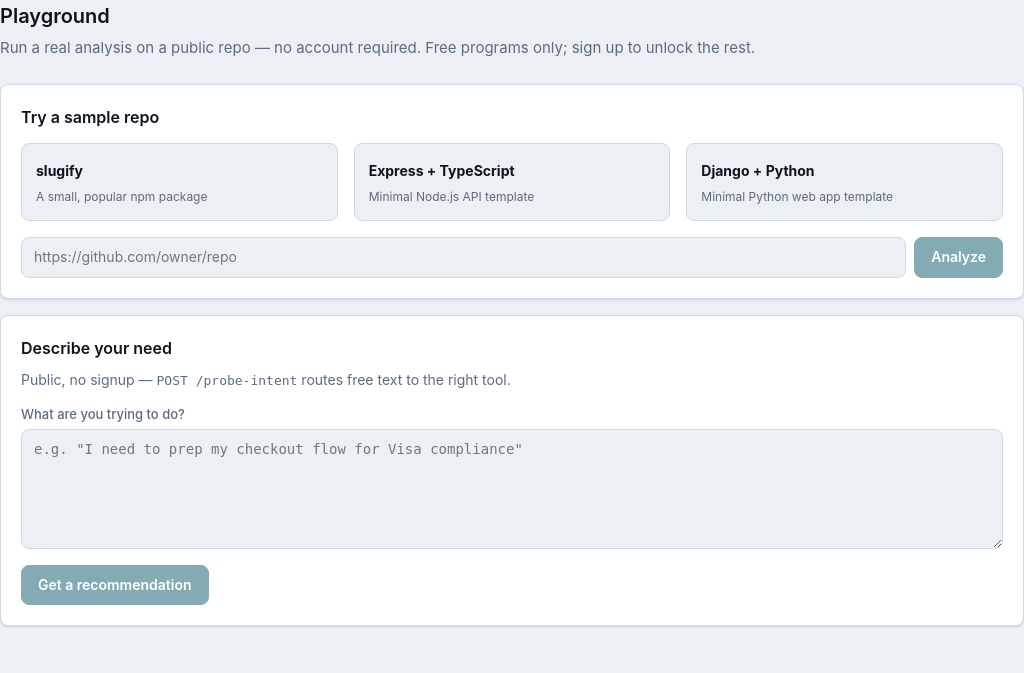
Test: PlaygroundPage — quota meter race (H-Phase-A cycle 12) › a slow mount-time quota response cannot overwrite the fresher post-run one
The width and height of the screenshot is (1024, 673).
Click the text "slugify".
click(60, 170)  # box top-left (36, 162), bottom-right (83, 179)
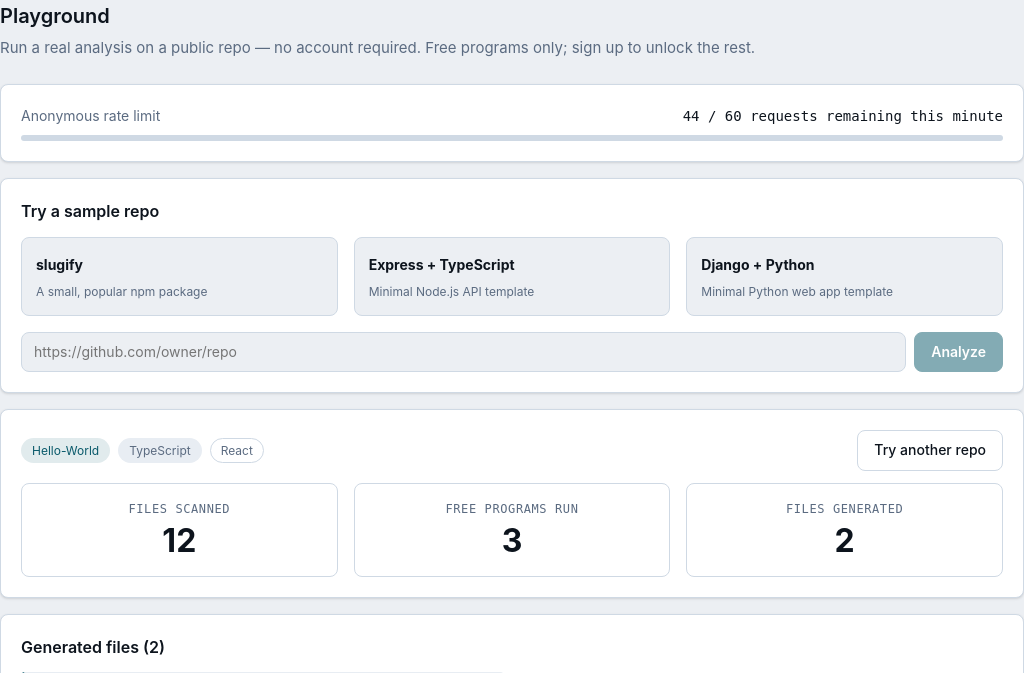
Expected: the text "44 / 60 requests remaining this minute" is shown, top-left (683, 105), bottom-right (1003, 127)
